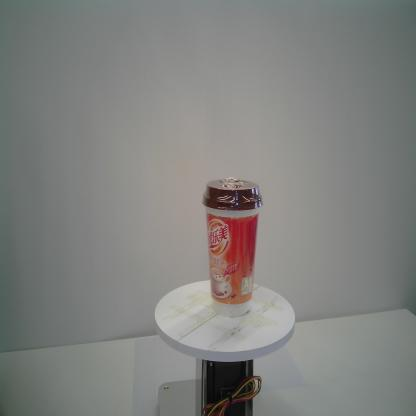Instant Drink: (201, 174, 264, 318)
